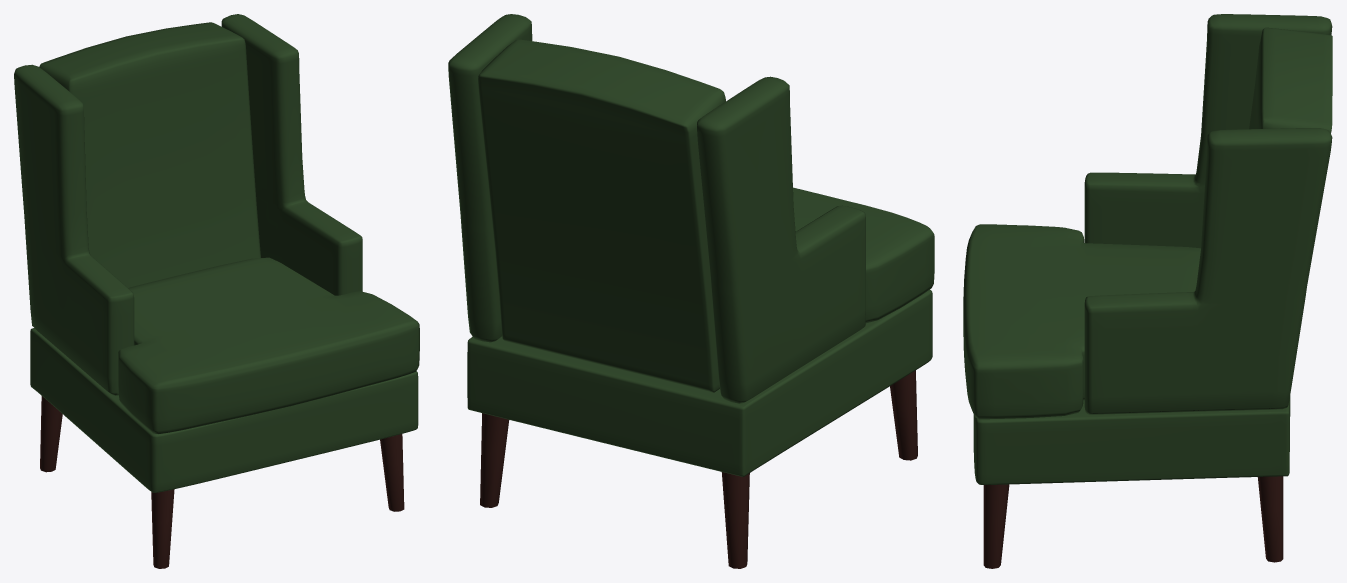
Rendered from Armchair.fbx.
3 renders of one model, left to right at view 1: azimuth 30°, elevation 25°; view 2: azimuth 150°, elevation 25°; view 3: azimuth 270°, elevation 25°, orthographic. The views are drawn at different scales.
Visible parts, largest first — view 1: armchair_studio; view 2: armchair_studio; view 3: armchair_studio.
Boxes of the visible parts, x1,y1,x2,y2 form: armchair_studio: (14,14,419,568); armchair_studio: (448,14,934,568); armchair_studio: (963,14,1332,568).
Size of the model in its own units: 66.47 by 93.86 by 72.
